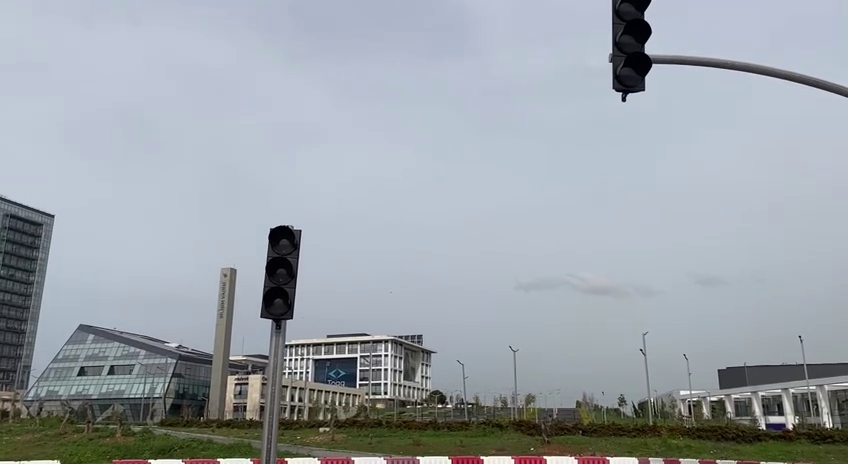trafficLight: (606, 1, 657, 105), (255, 220, 305, 325)
